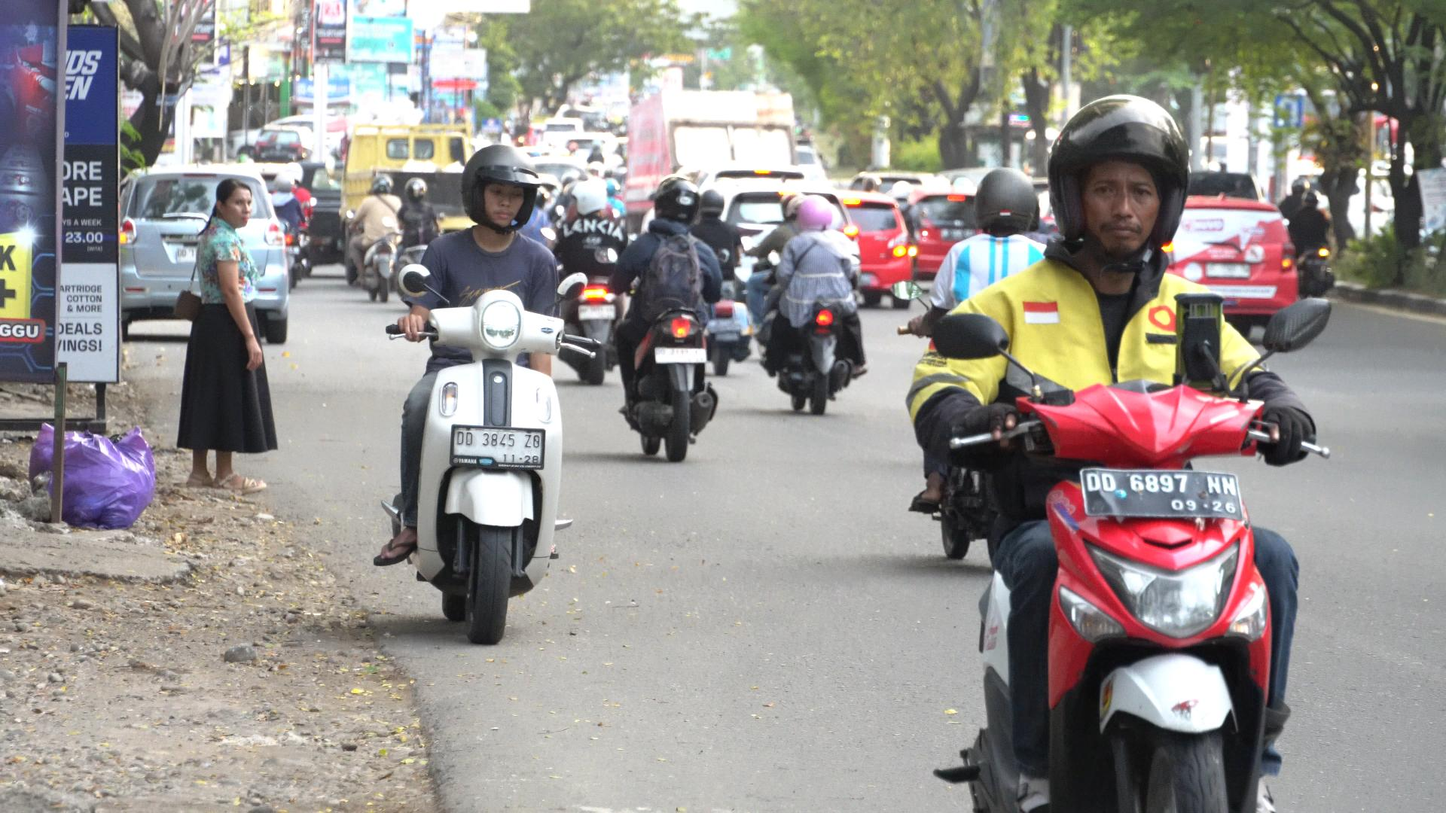number-plate: (1082, 463, 1246, 523), (447, 422, 550, 474)
